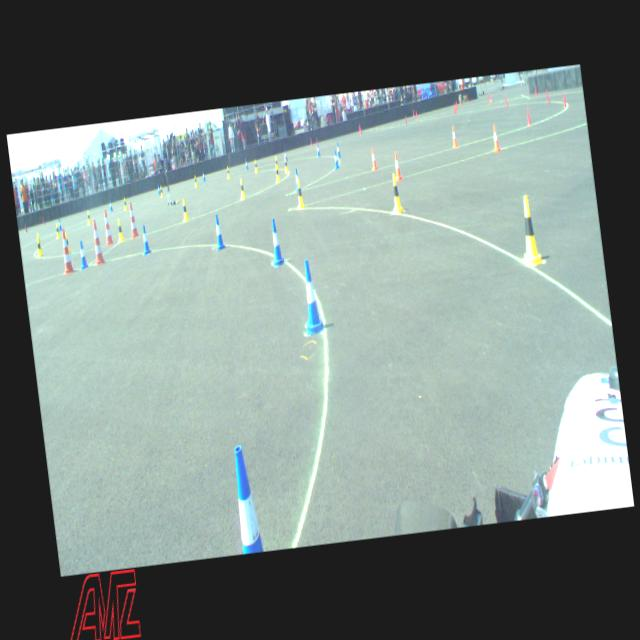blue_cone: (230, 444, 264, 554), (298, 258, 324, 334), (268, 218, 284, 266), (212, 213, 225, 250), (140, 223, 152, 254), (77, 240, 88, 270), (293, 168, 301, 190), (332, 150, 338, 168), (335, 142, 340, 158), (57, 218, 62, 231), (316, 144, 320, 156), (244, 158, 248, 170), (283, 149, 287, 161), (109, 199, 112, 211), (202, 170, 205, 181), (158, 183, 160, 194)
large_orange_cone: (90, 218, 105, 266), (60, 228, 74, 273), (127, 201, 139, 237), (101, 209, 113, 245)
orange_cone: (392, 151, 402, 181), (490, 124, 500, 152), (369, 147, 377, 170), (450, 126, 458, 148)
unknown_cone: (524, 106, 530, 125), (562, 90, 566, 107), (545, 88, 549, 103), (534, 86, 538, 97)
yellow_cone: (514, 194, 544, 267), (388, 172, 403, 215), (294, 178, 304, 208), (116, 218, 124, 242), (34, 232, 42, 256), (180, 198, 188, 221), (238, 178, 246, 198), (34, 231, 41, 250), (64, 232, 70, 254), (54, 222, 60, 238), (275, 164, 280, 182), (252, 159, 258, 172), (284, 156, 288, 172), (159, 184, 163, 198), (86, 210, 90, 223), (194, 174, 198, 187), (226, 165, 230, 178), (274, 156, 278, 169), (123, 197, 127, 210)
